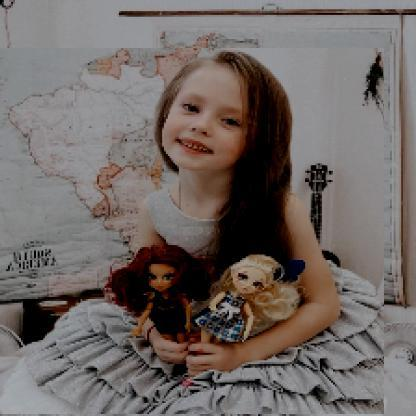child: (1, 49, 386, 416)
